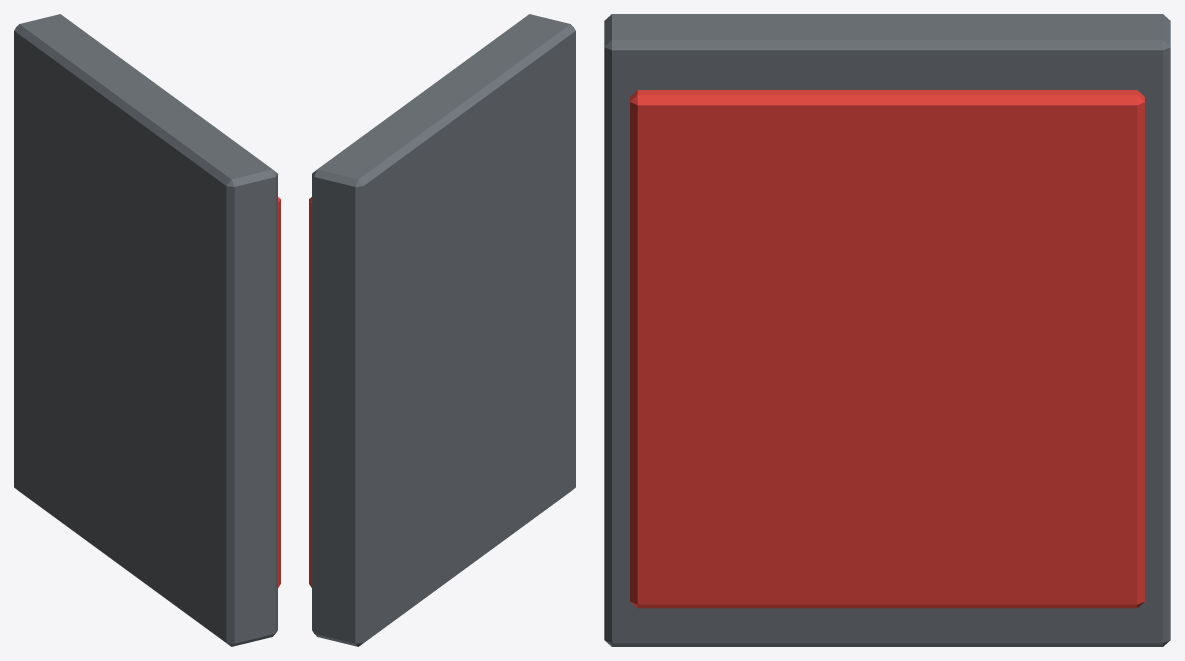
Rendered from sliding_door.glb.
3 views of the same model, side by side, from view 1: azimuth 30°, elevation 25°; view 2: azimuth 150°, elevation 25°; view 3: azimuth 270°, elevation 25° (orthographic). The views are drawn at different scales.
Parts seen in each view (by area): view 1: sliding_door; view 2: sliding_door; view 3: sliding_door.
Boxes of the visible parts, left/top/right/bottom form: sliding_door: left=14, top=14, right=280, bottom=646; sliding_door: left=309, top=14, right=575, bottom=646; sliding_door: left=604, top=14, right=1170, bottom=646.
Size of the model in its own units: 0.075 by 0.52 by 0.44.
